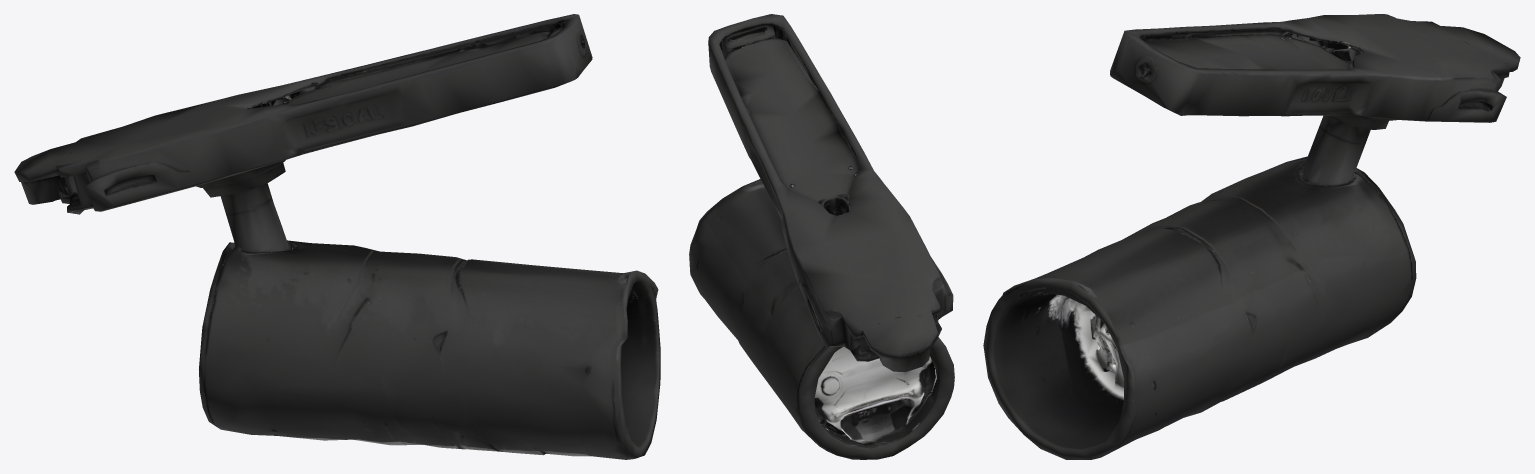
Rendered from luminaria11.obj.
The picture shows the model from 3 angles, left to right: view 1: azimuth 30°, elevation 25°; view 2: azimuth 150°, elevation 25°; view 3: azimuth 270°, elevation 25°; orthographic projection. The views are drawn at different scales.
Visible parts, largest first — view 1: luminaria11; view 2: luminaria11; view 3: luminaria11.
Boxes of the visible parts, bbox=[...] form: luminaria11: bbox=[14, 14, 660, 459]; luminaria11: bbox=[689, 14, 954, 459]; luminaria11: bbox=[983, 14, 1520, 459].
Bounding box in the file's own units: 1.95 × 1.63 × 1.95.
1 material, 1 textured.
